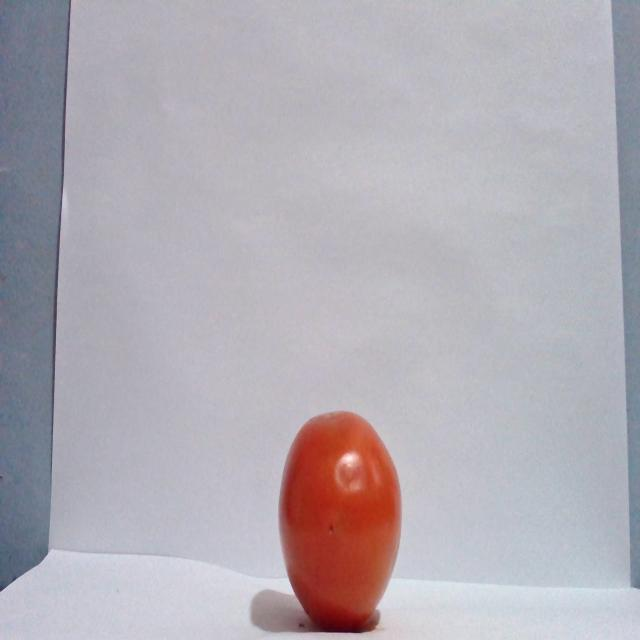Red: (276, 408, 403, 632)
